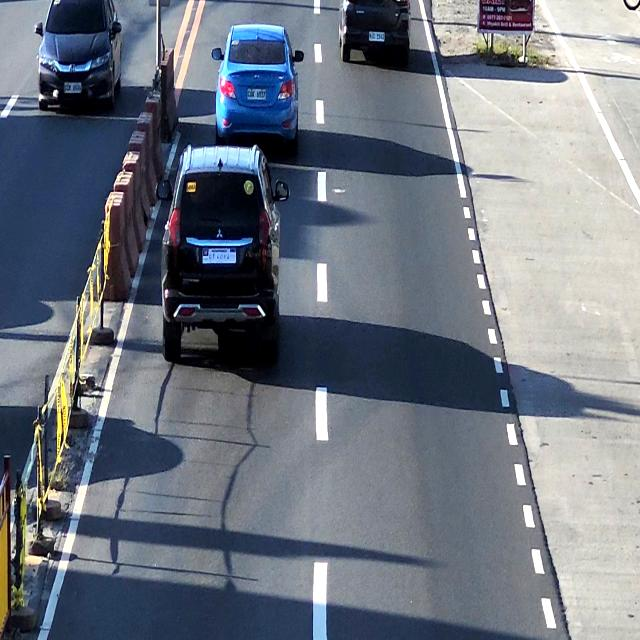Car: (165, 144, 280, 356), (214, 26, 299, 152), (339, 0, 413, 62)
License-Plate: (200, 240, 237, 268), (245, 84, 266, 102), (366, 30, 385, 46)
